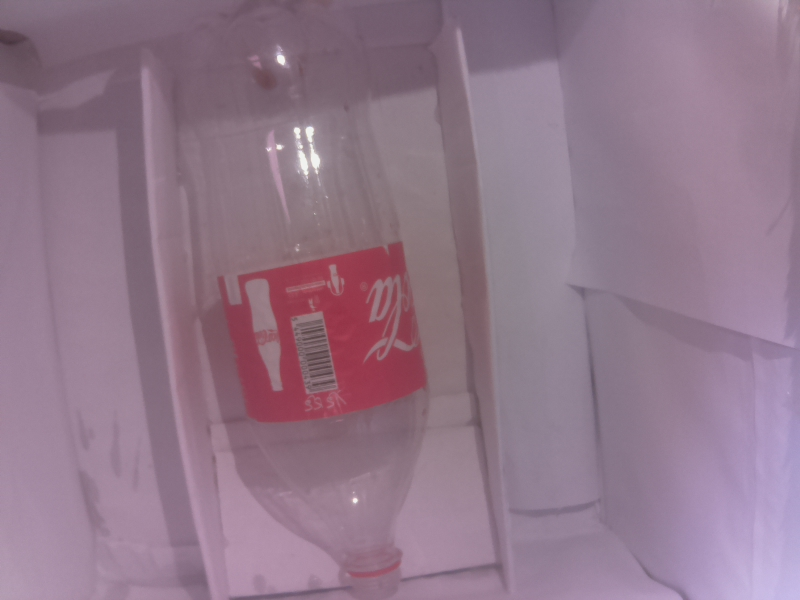botolplastik: (189, 1, 430, 590)
